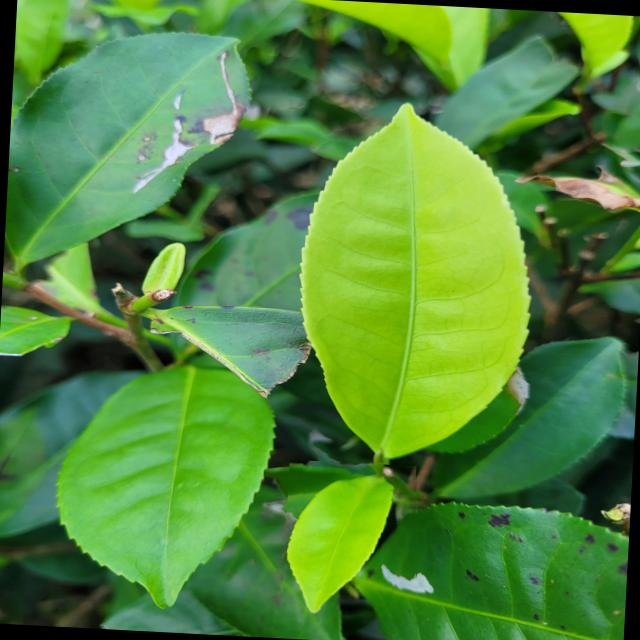Catagory A(1-2 days): (280, 460, 422, 628)
